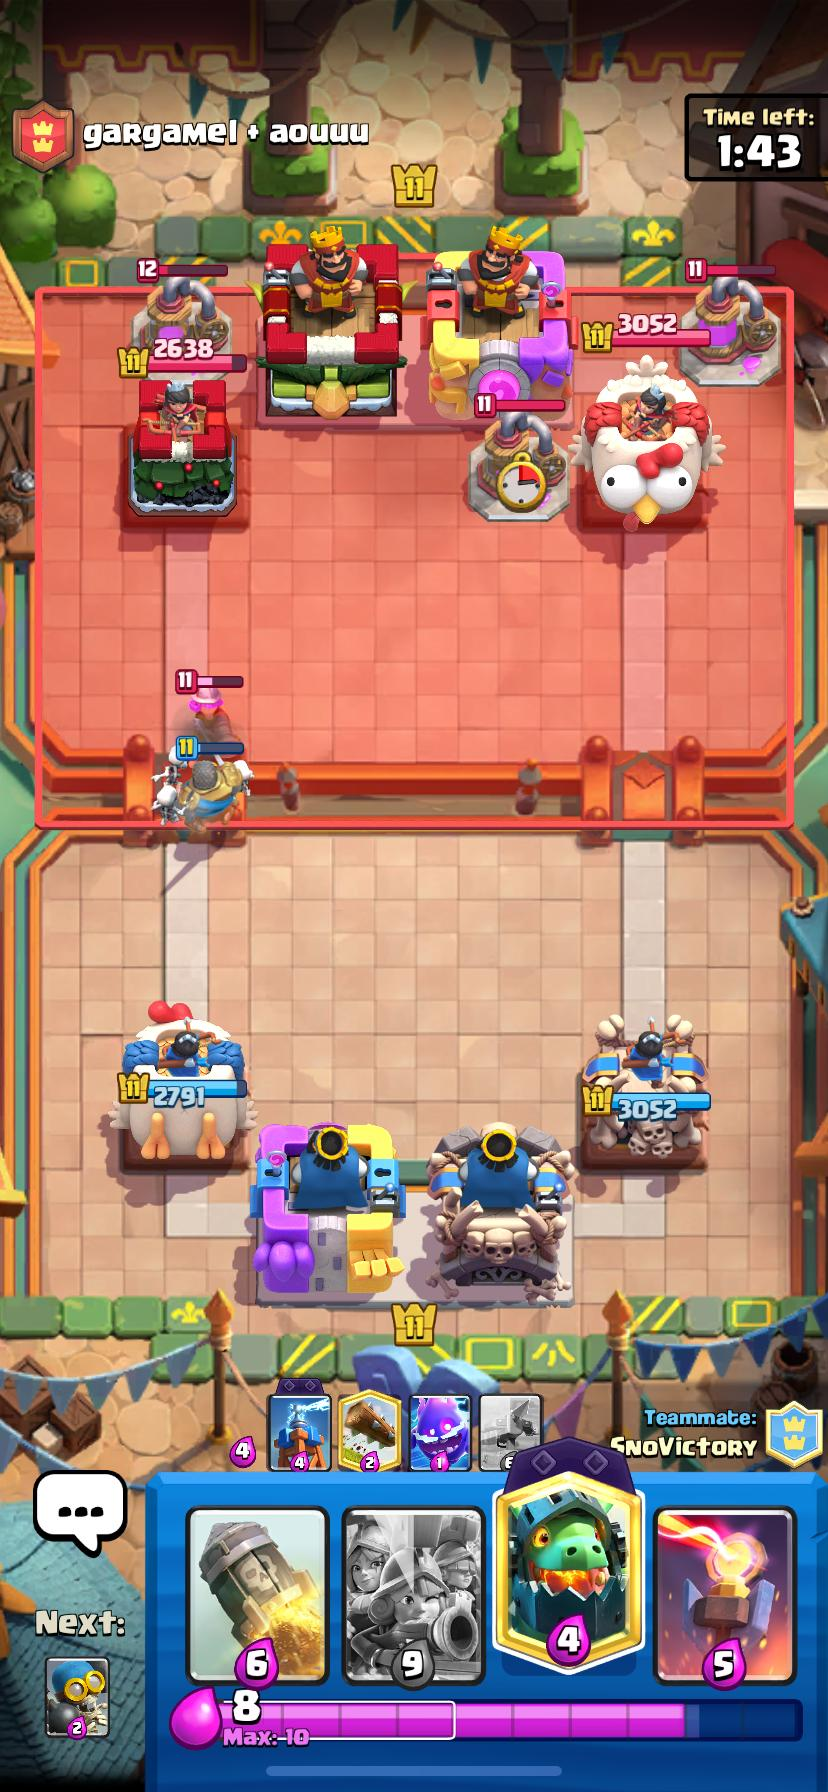EKingTower: (428, 226, 572, 417), (257, 227, 401, 417)
EMusk: (188, 689, 237, 744)
EPump: (677, 277, 780, 386), (469, 411, 568, 521), (132, 277, 231, 361)
EnemyPrincessTower: (576, 357, 712, 528), (126, 376, 236, 520)
OKnight: (178, 758, 244, 831)
OLarry: (153, 779, 182, 830), (154, 747, 183, 786), (233, 757, 253, 799)
OwnKingTower: (252, 1123, 405, 1304), (427, 1122, 574, 1305)
OwnPrincessTower: (109, 1001, 256, 1162), (580, 1014, 710, 1166)
